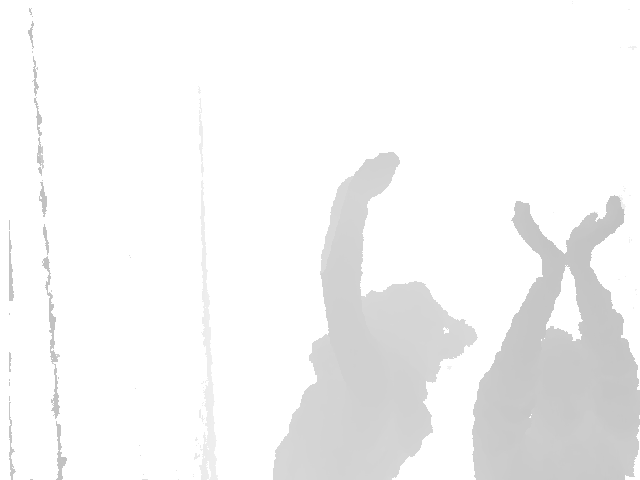hand: (564, 194, 627, 269), (506, 198, 568, 272), (341, 146, 402, 205)
head: (347, 280, 478, 382), (523, 326, 594, 442)
person: (269, 147, 479, 480), (472, 182, 640, 480)
